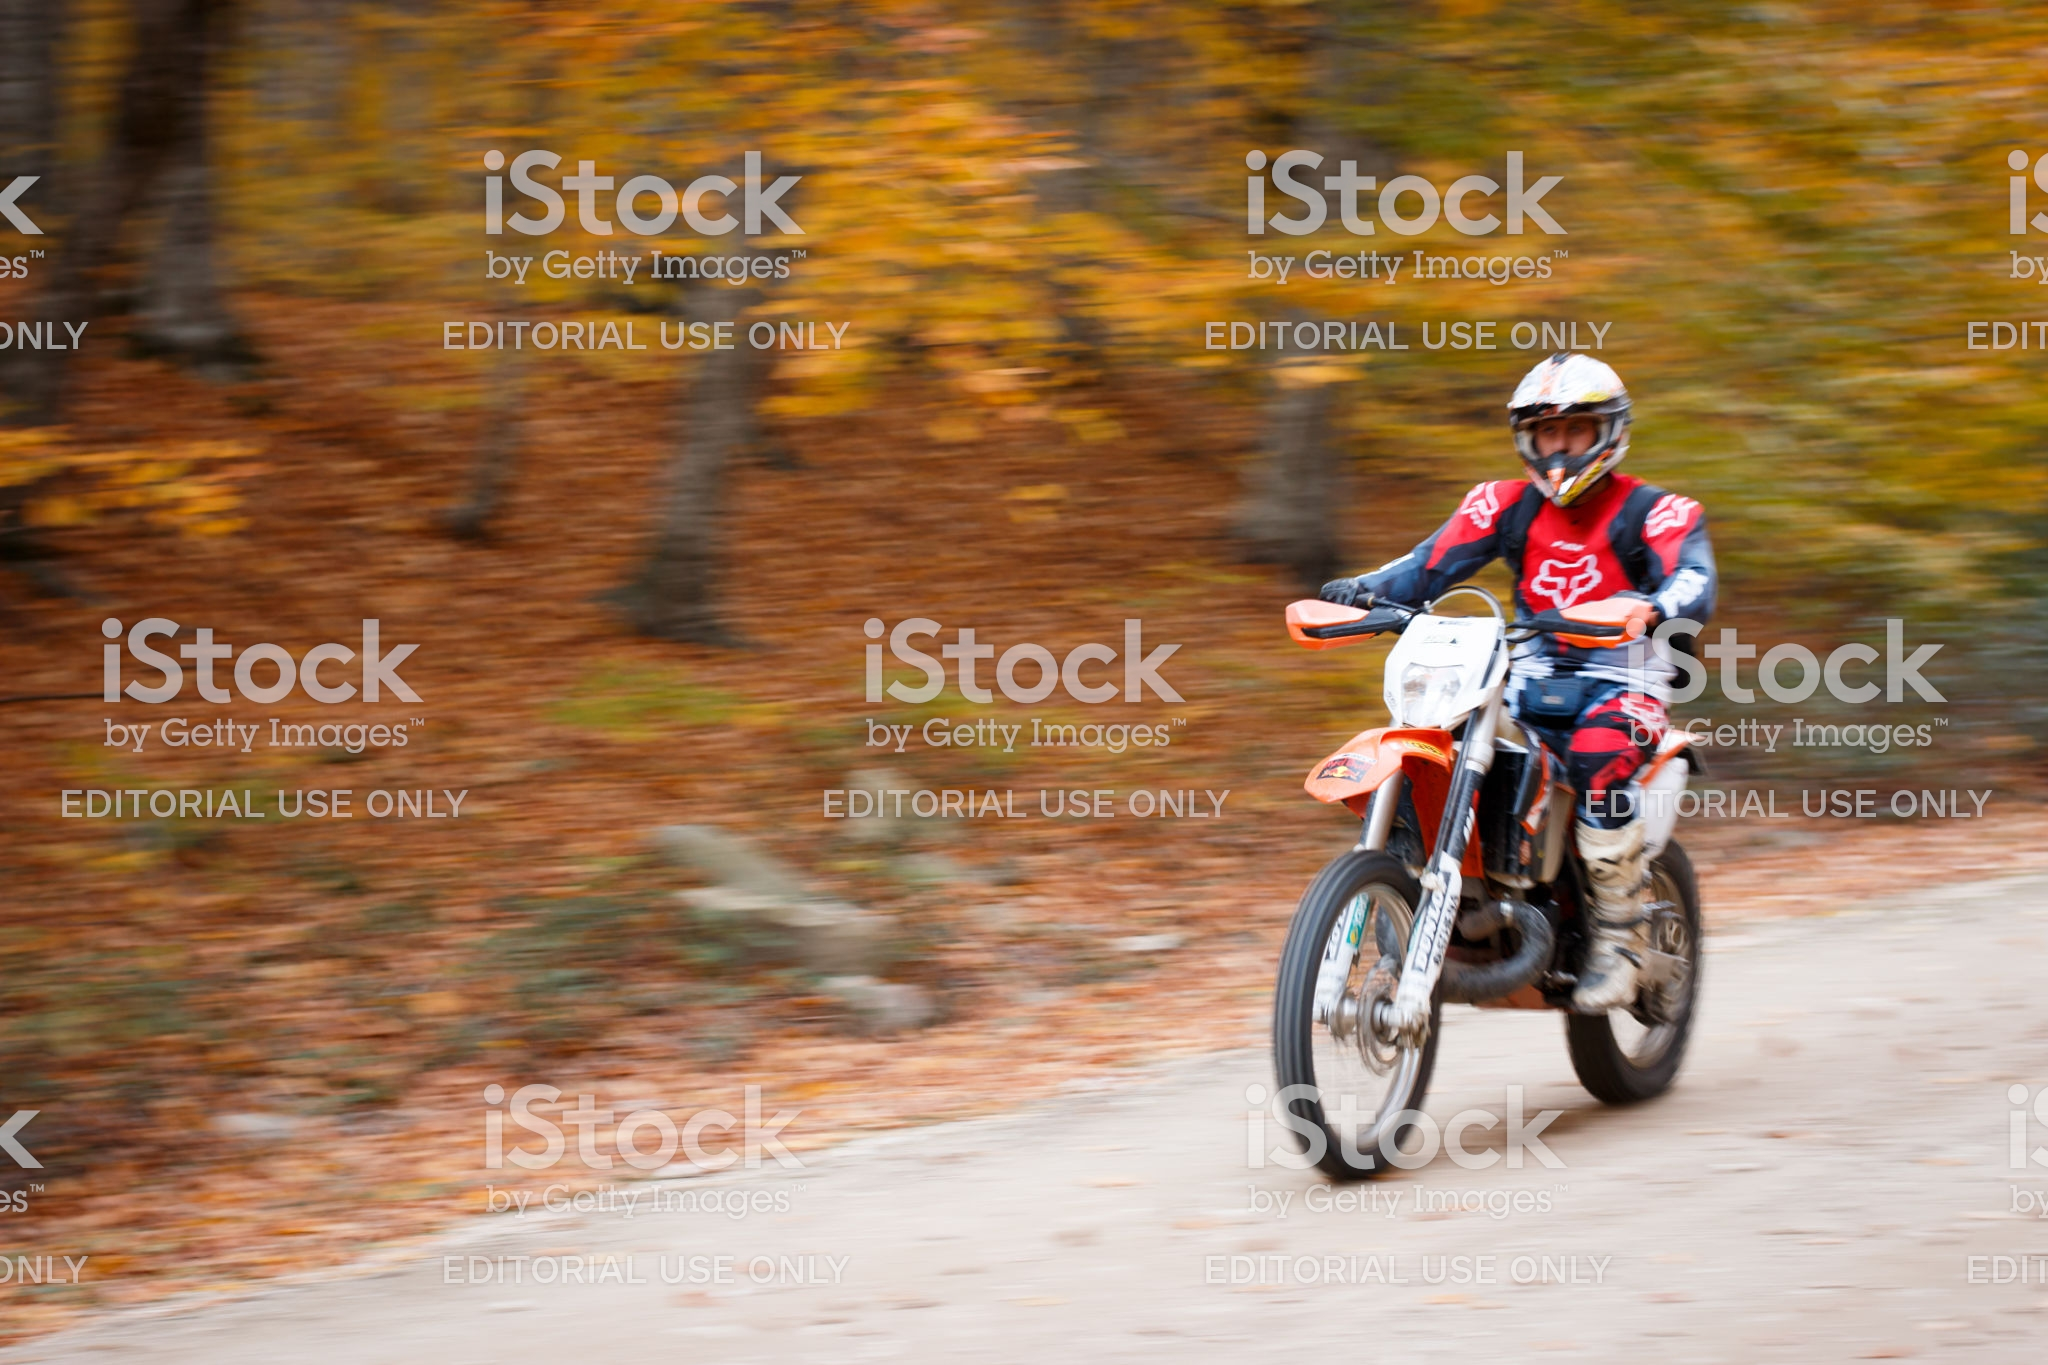helmet: (1506, 341, 1648, 500)
